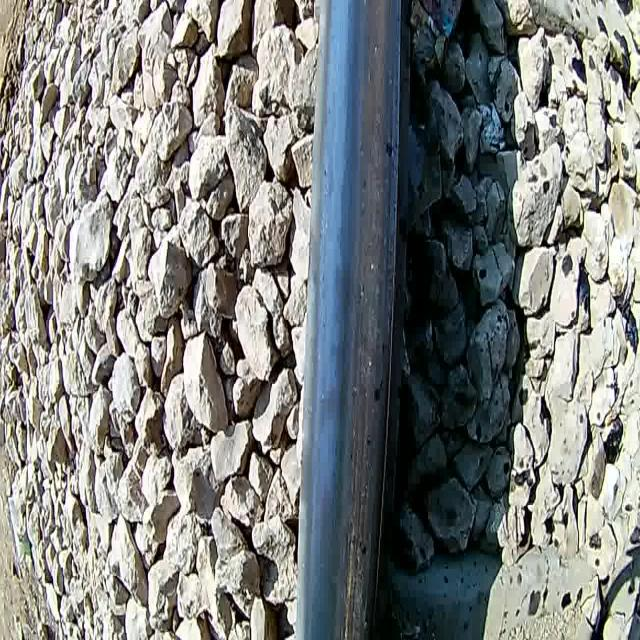Grooves: (339, 269, 371, 640)
